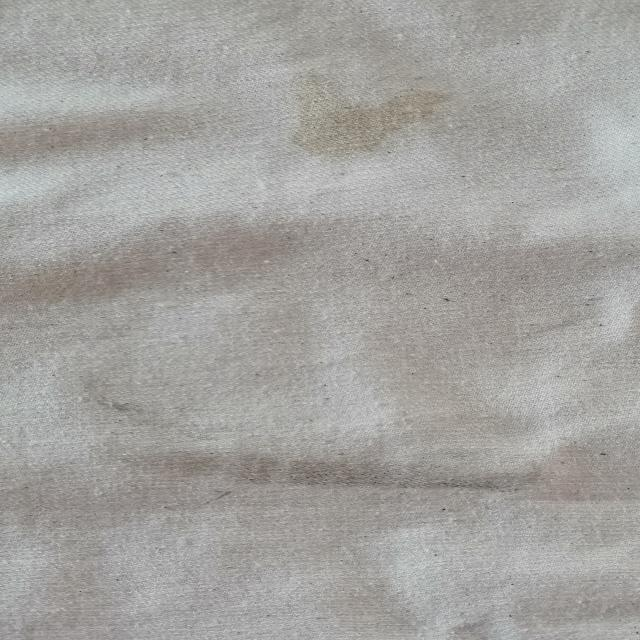taaaches: (84, 444, 566, 510), (274, 59, 464, 173), (54, 363, 194, 431)
